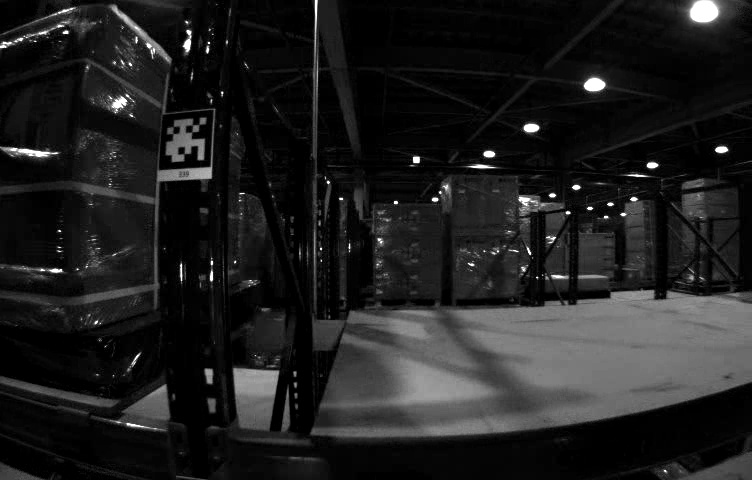True Barcode: (38, 84, 67, 116)
